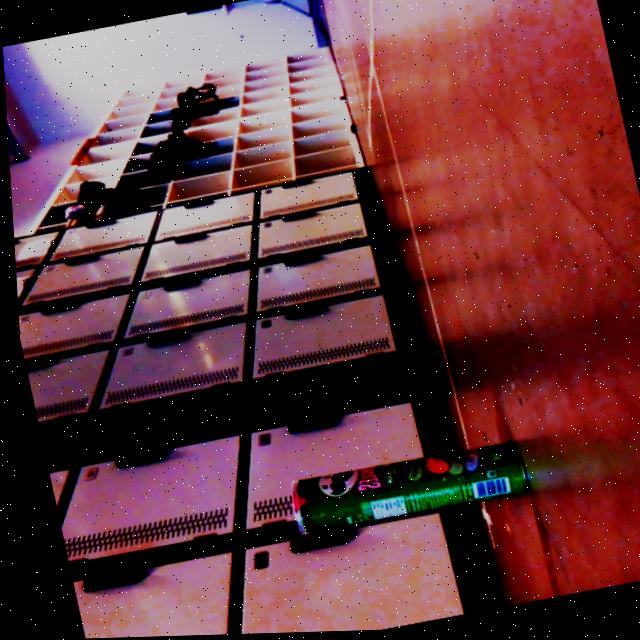greenpringles: (262, 421, 539, 563)
